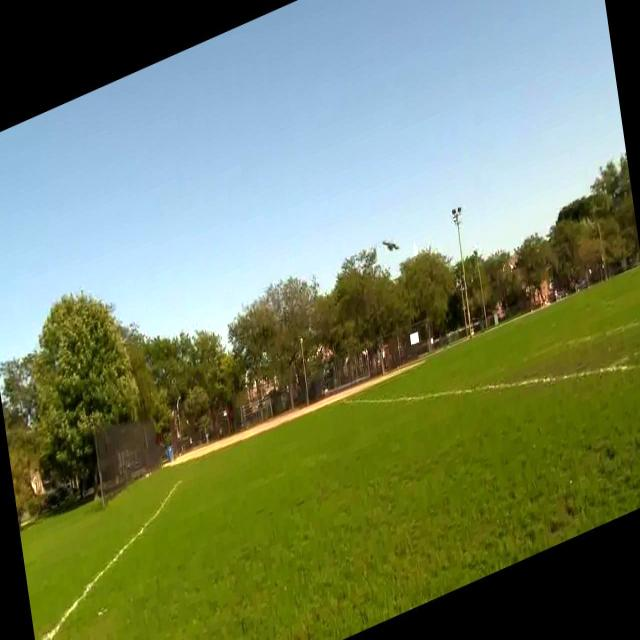drone: (381, 224, 401, 259)
